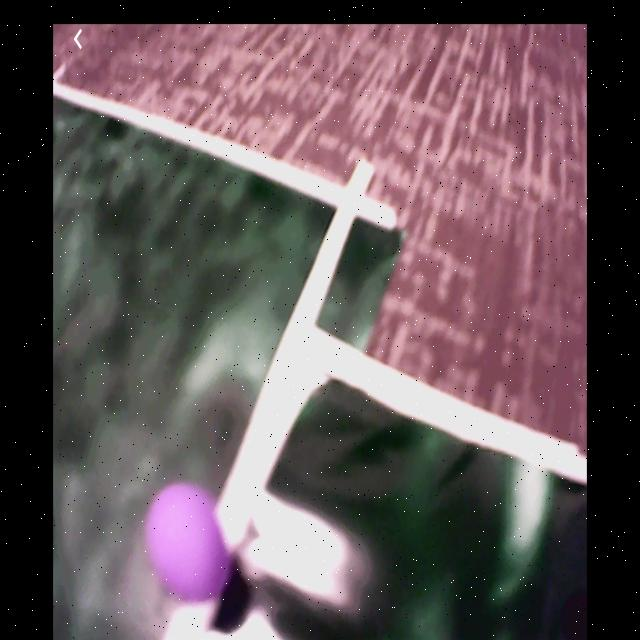ball: (147, 486, 227, 597)
